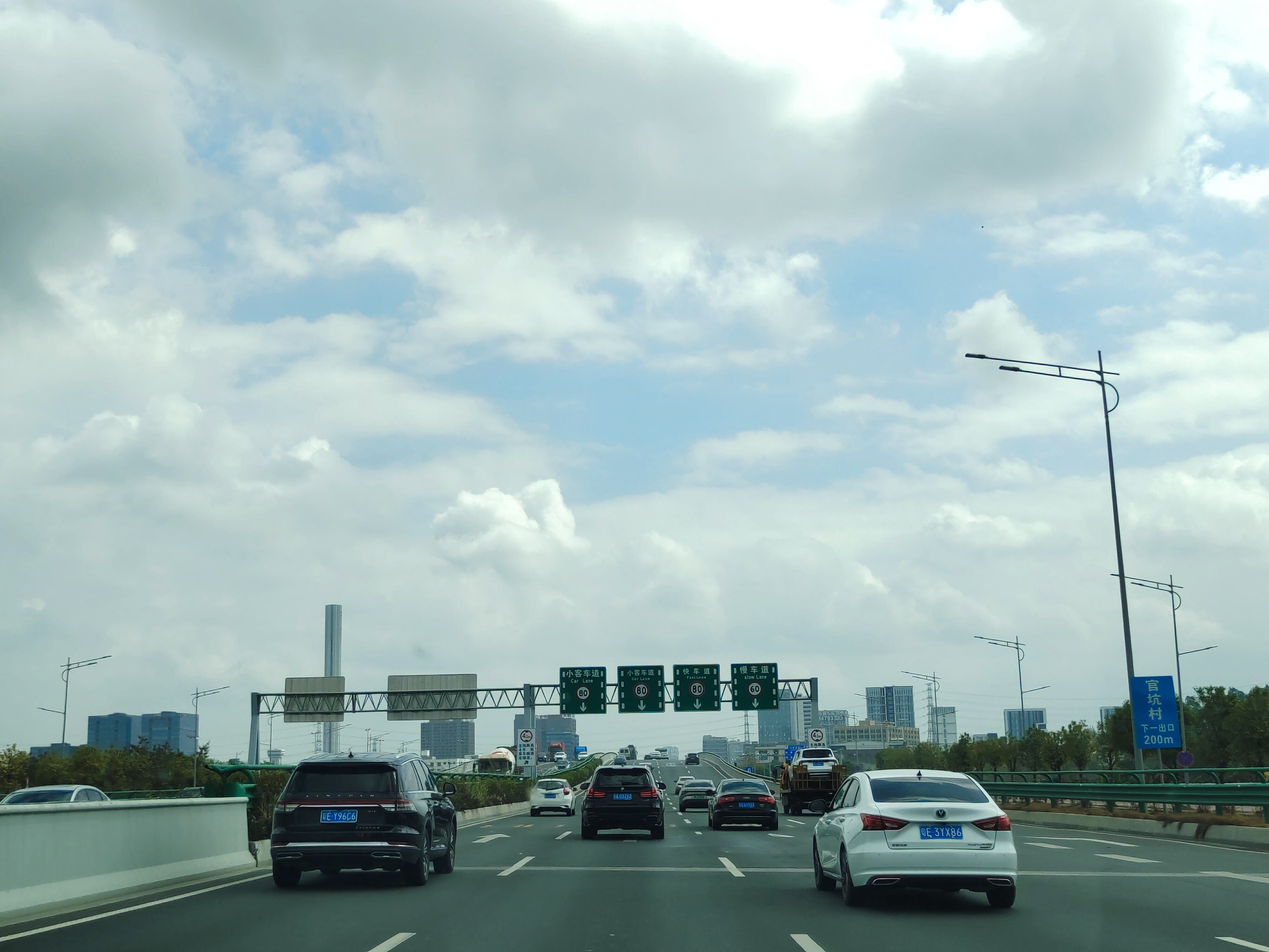car: (813, 766, 1022, 904), (254, 752, 443, 887), (641, 778, 796, 859), (561, 778, 667, 845), (10, 779, 89, 835), (537, 770, 578, 826), (679, 768, 714, 811), (792, 747, 838, 779), (635, 745, 678, 763), (612, 742, 641, 765), (676, 747, 707, 764)
truck: (773, 756, 842, 812), (463, 743, 536, 793), (549, 736, 562, 763)
